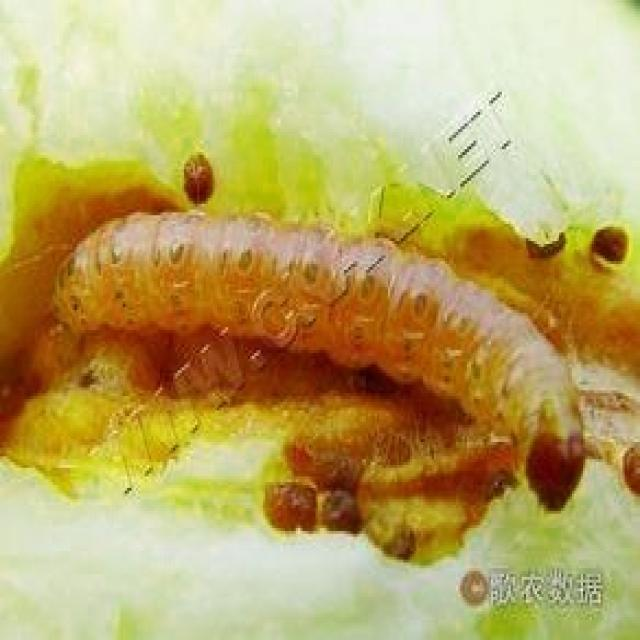peach borer: (50, 202, 589, 512)
